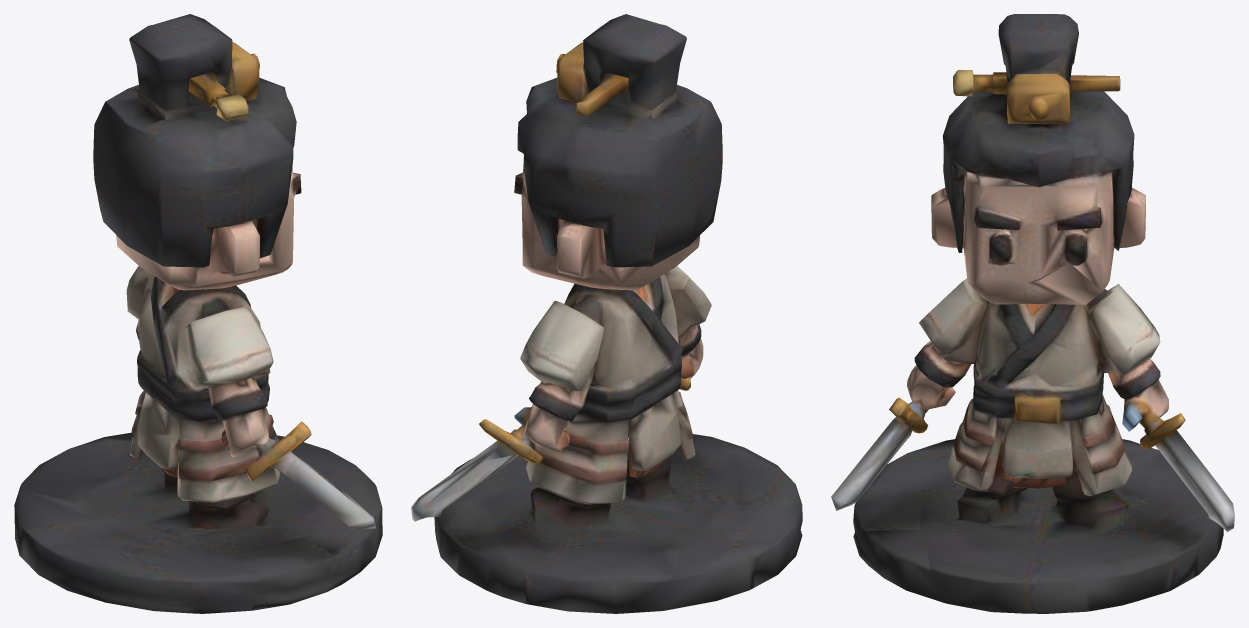
File: fig-advisor.glb
3 views of the same model, side by side, from view 1: azimuth 30°, elevation 25°; view 2: azimuth 150°, elevation 25°; view 3: azimuth 270°, elevation 25° (orthographic).
Visible parts, largest first — view 1: tripo_node_c2c1cdbb-e316-4de5-8267-0f03705f1639; view 2: tripo_node_c2c1cdbb-e316-4de5-8267-0f03705f1639; view 3: tripo_node_c2c1cdbb-e316-4de5-8267-0f03705f1639.
Boxes of the visible parts, x1=… form: tripo_node_c2c1cdbb-e316-4de5-8267-0f03705f1639: x1=14, y1=14, x2=382, y2=613; tripo_node_c2c1cdbb-e316-4de5-8267-0f03705f1639: x1=411, y1=14, x2=802, y2=613; tripo_node_c2c1cdbb-e316-4de5-8267-0f03705f1639: x1=831, y1=14, x2=1234, y2=613.
Bounding box in the file's own units: 0.6531 × 0.9999 × 0.7214.
Materials: 1 (1 with a texture image).
